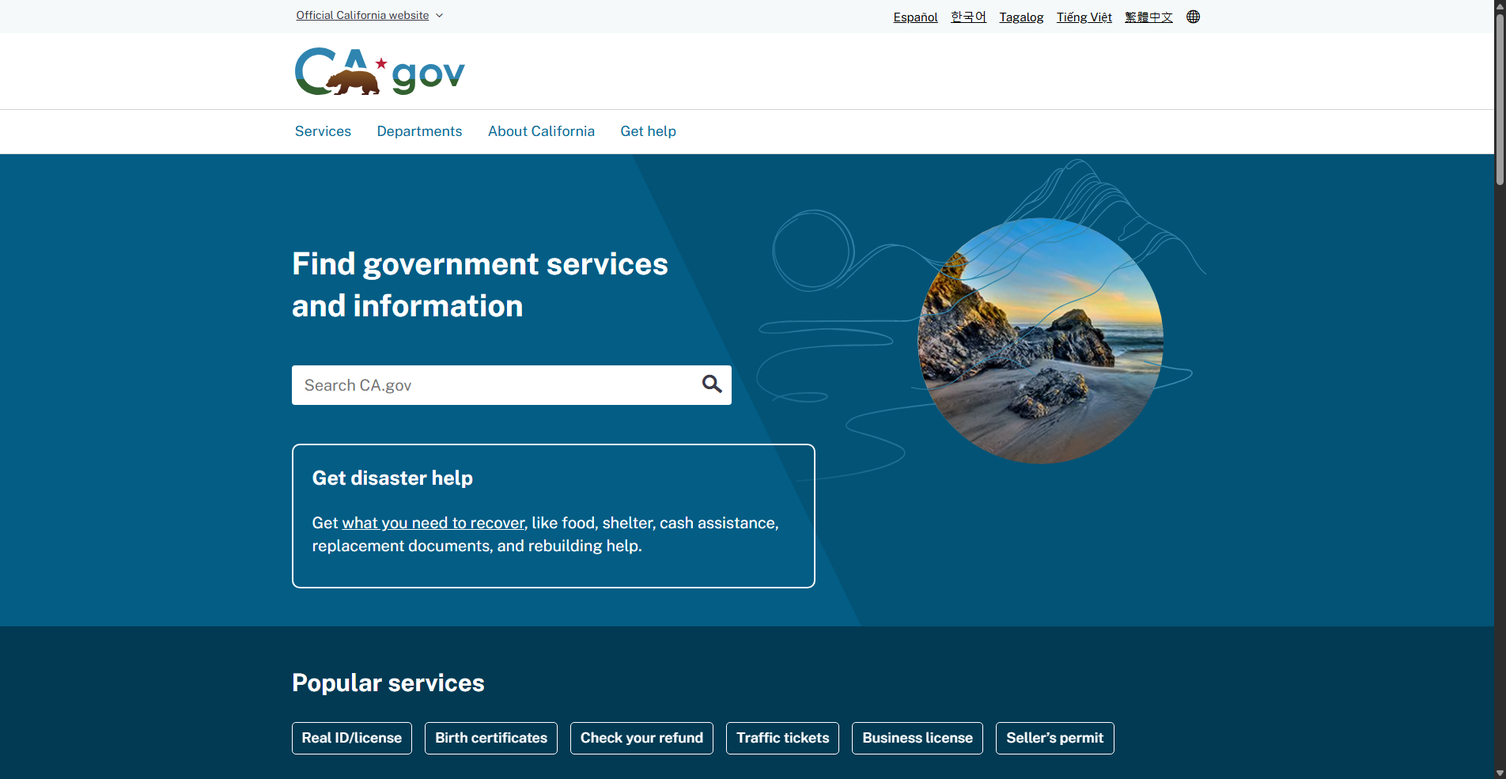button: (570, 722, 714, 755), (425, 722, 558, 755), (852, 722, 983, 755), (291, 722, 412, 755), (996, 722, 1114, 755), (726, 722, 840, 755), (291, 3, 453, 26), (1458, 669, 1506, 708), (692, 365, 731, 405)
dropdown: (282, 110, 1212, 153)
input: (291, 365, 698, 405)
link: (295, 46, 465, 96), (475, 110, 608, 153), (364, 110, 475, 153), (282, 110, 364, 153), (608, 110, 689, 153), (342, 513, 524, 531), (1057, 6, 1112, 29), (1125, 6, 1173, 29), (893, 6, 938, 29), (999, 6, 1044, 29), (951, 6, 987, 29), (1186, 5, 1203, 28)
